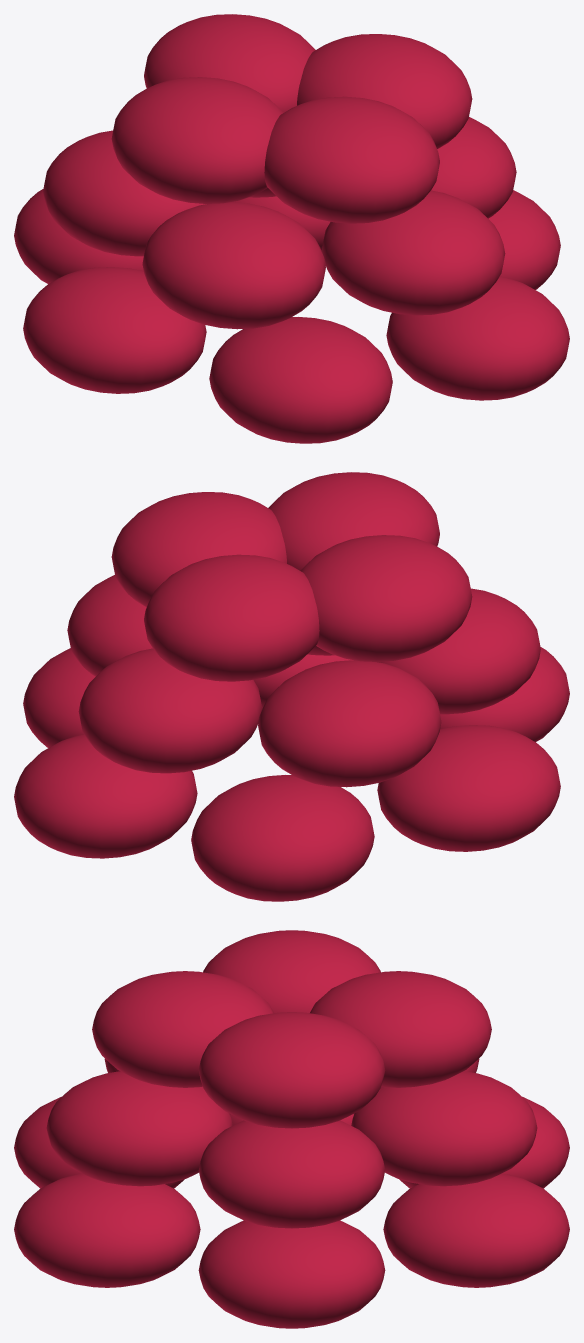
File: wp-framboises.glb
3 renders of one model, top to bottom at view 1: azimuth 30°, elevation 25°; view 2: azimuth 150°, elevation 25°; view 3: azimuth 270°, elevation 25°, orthographic. The views are drawn at different scales.
Parts seen in each view (by area): view 1: wp-framboises; view 2: wp-framboises; view 3: wp-framboises.
Part boxes in pixels (bbox=[...]): wp-framboises: bbox=[14, 14, 569, 443]; wp-framboises: bbox=[14, 472, 569, 901]; wp-framboises: bbox=[14, 930, 569, 1328].
Bounding box in the file's own units: 0.1 × 0.05 × 0.1.
